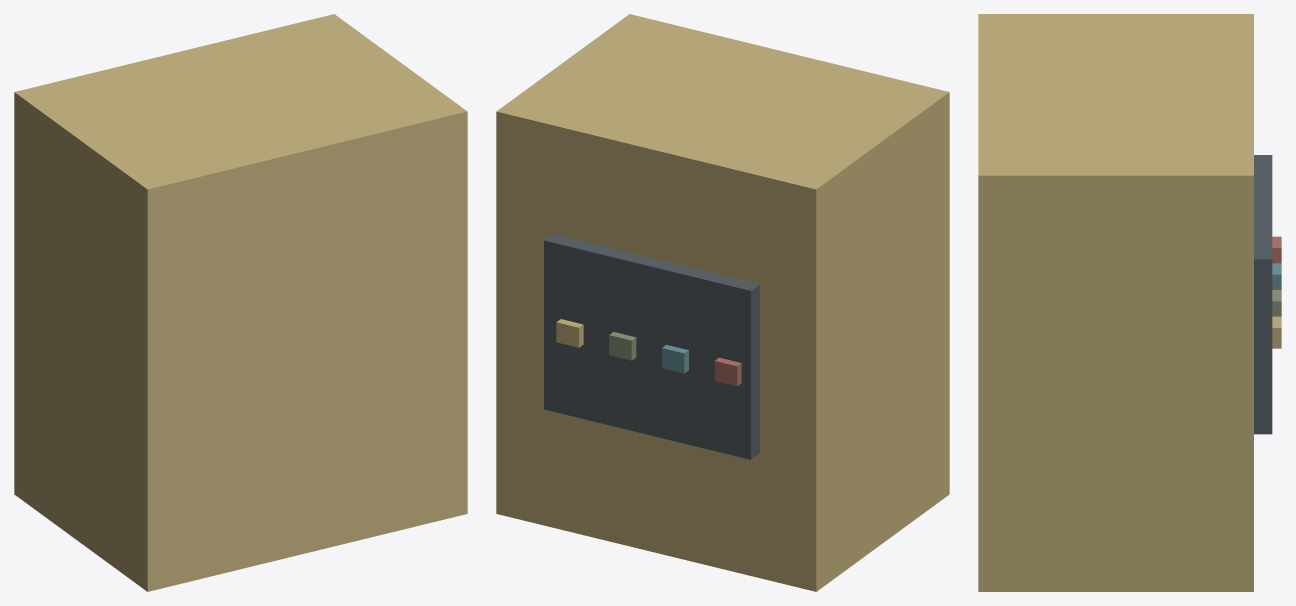
Rendered from iz2_radio_patch_panel.glb.
3 views of the same model, side by side, from view 1: azimuth 30°, elevation 25°; view 2: azimuth 150°, elevation 25°; view 3: azimuth 270°, elevation 25° (orthographic). The views are drawn at different scales.
Visible parts, largest first — view 1: body; view 2: body; view 3: body.
Part boxes in pixels (x1,y1,x2,y2): body: (14, 14, 467, 591); body: (496, 14, 949, 591); body: (978, 14, 1281, 591).
Size of the model in its own units: 0.8238 by 0.99 by 0.6534.
